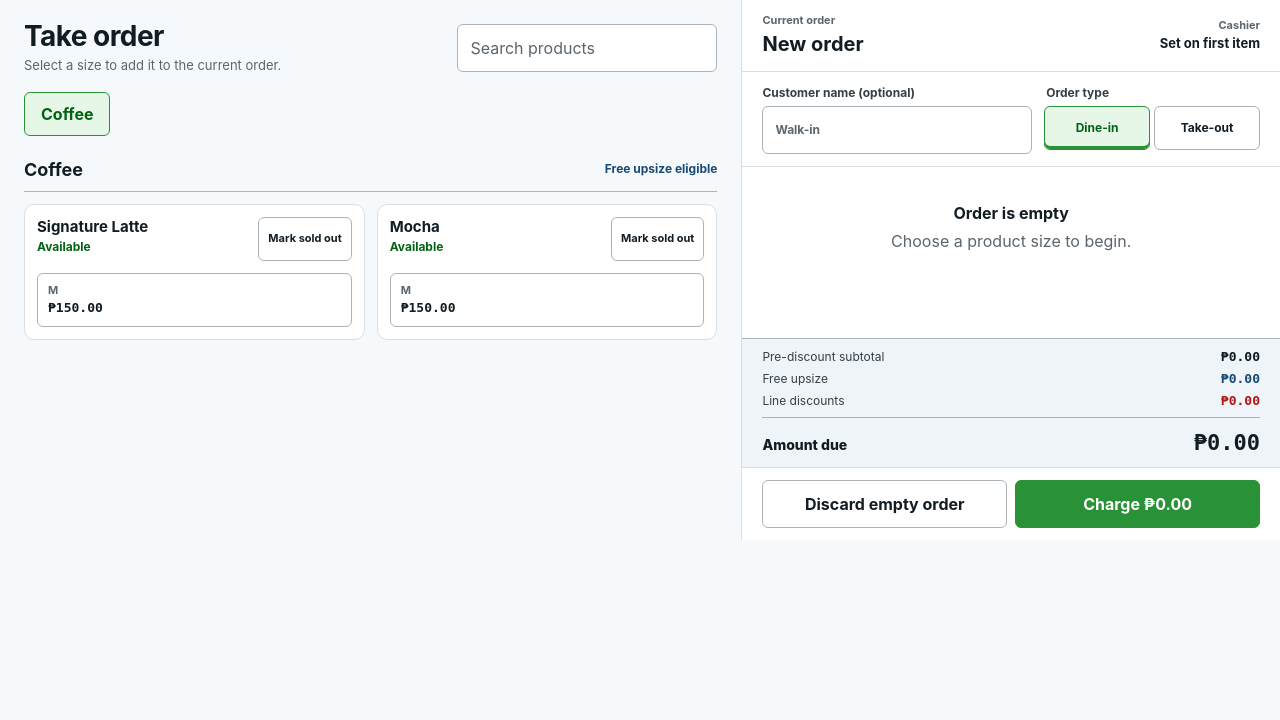
Scenario: Take Order workspace › increases, decreases, and removes a line using server-returned orders
Expected: the heading "Signature Latte" is shown, [37,217,148,236]
Click the button "M ₱150.00" below "Signature Latte" at x=75, y=308, box [37,273,352,327]
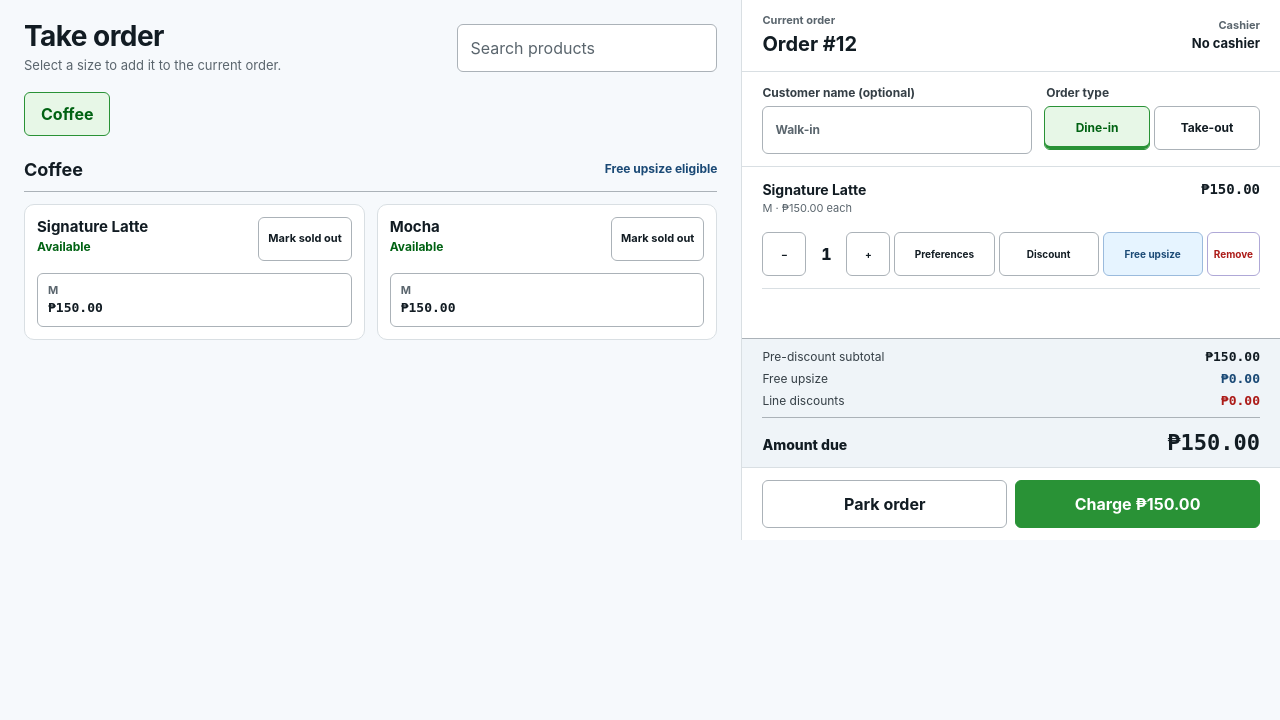
Now the heading "Order #12" is shown, box [762,28,857,58]
Click the button named "Increase Signature Latte quantity" at x=868, y=254, box [846,232,890,276]
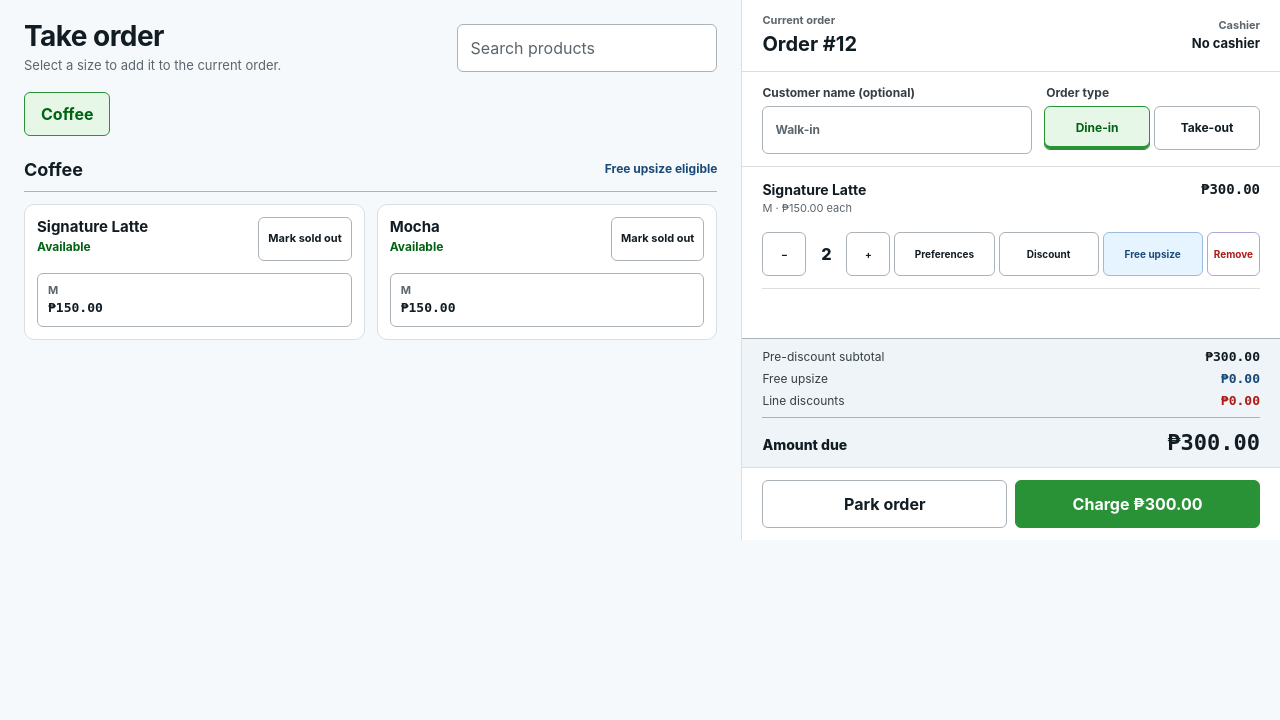
Now the text named "Quantity 2" is shown, box [821,244,832,264]
Click the button named "Decrease Signature Latte quantity" at x=784, y=254, box [762,232,806,276]
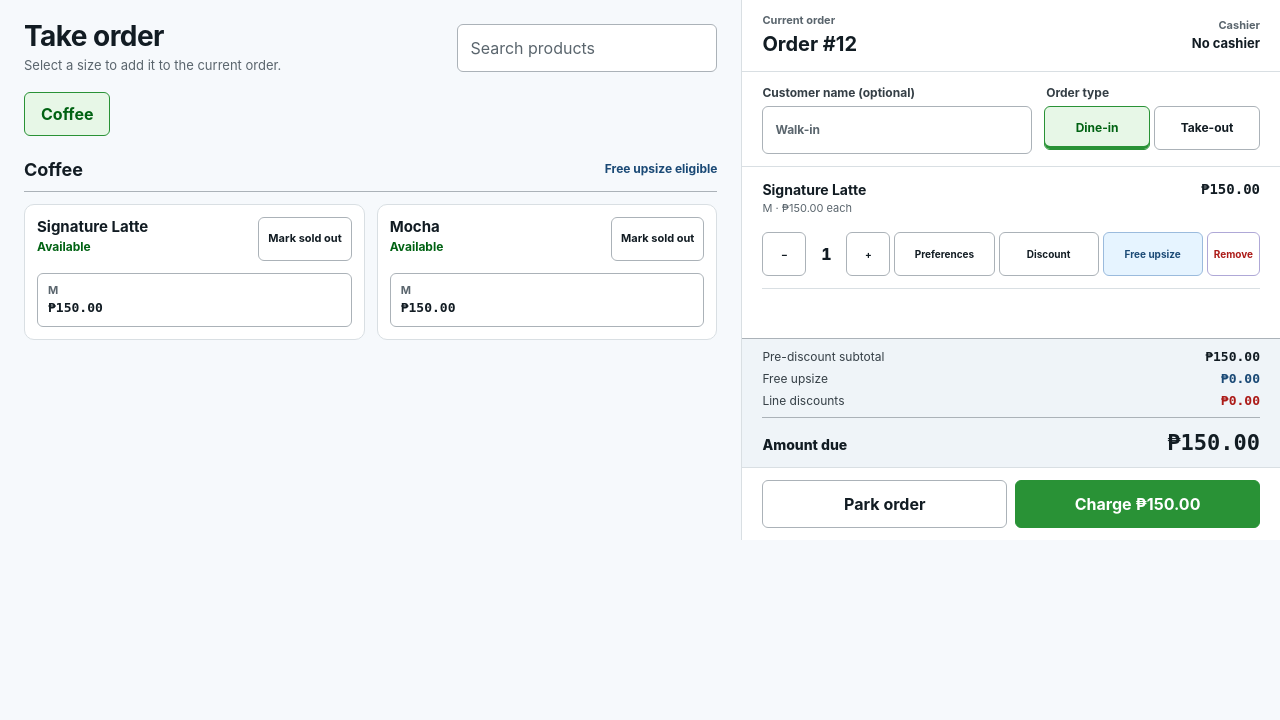
Now the text named "Quantity 1" is shown, box [821,244,832,264]
Click the button with aria-label "Remove Signature Latte" at x=1233, y=254, box [1207,232,1260,276]
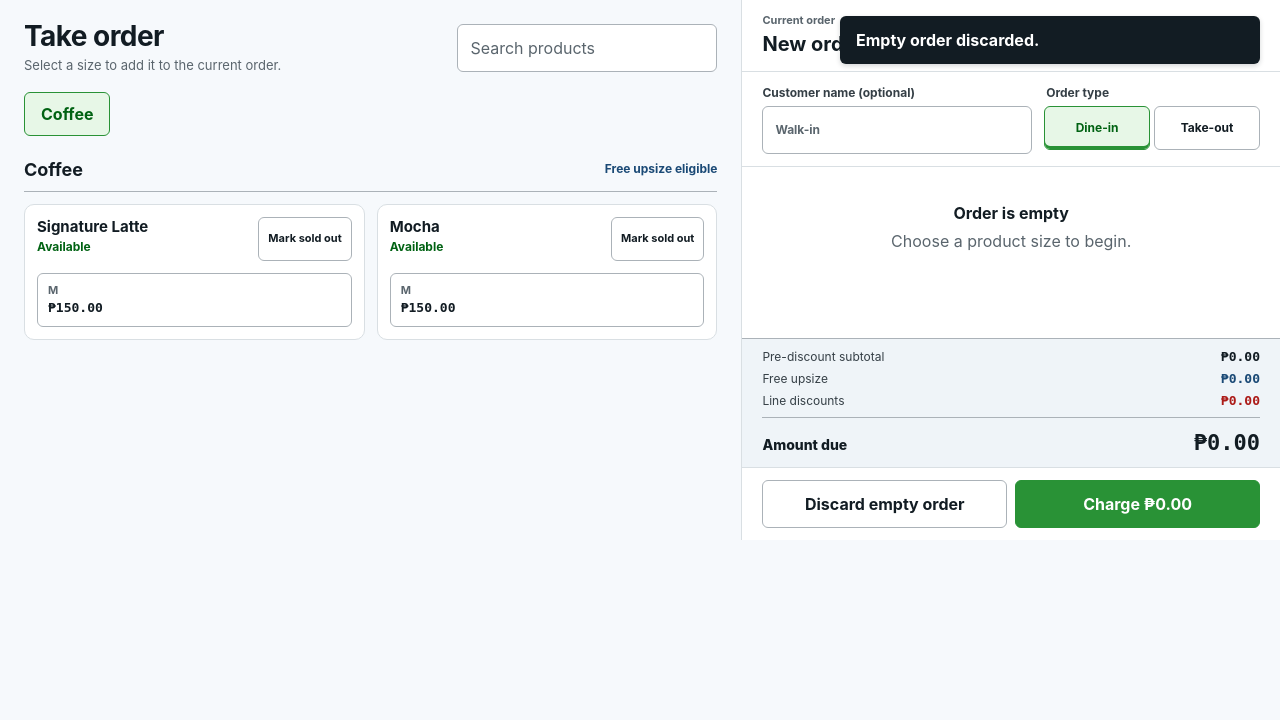
Now the text "Order is empty" is shown, box [953,202,1069,222]
Now the heading "New order" is shown, box [762,28,864,58]
Now the text "Empty order discarded." is shown, box [840,16,1260,64]
Click the button "M ₱150.00" below "Signature Latte" at x=75, y=308, box [37,273,352,327]
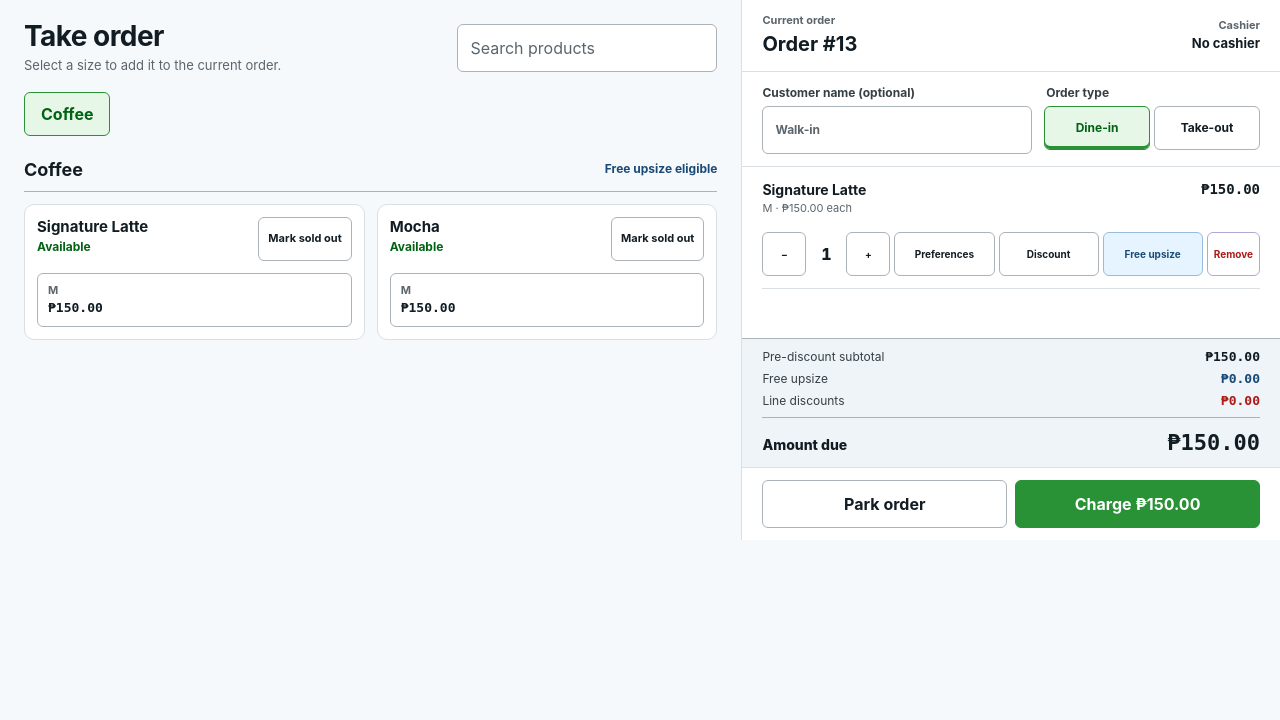
Now the heading "Order #13" is shown, box [762,28,857,58]
